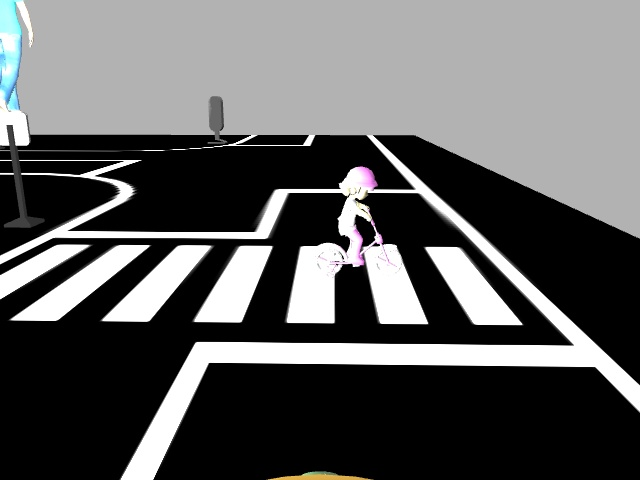Pedestrian: (312, 160, 412, 280)
